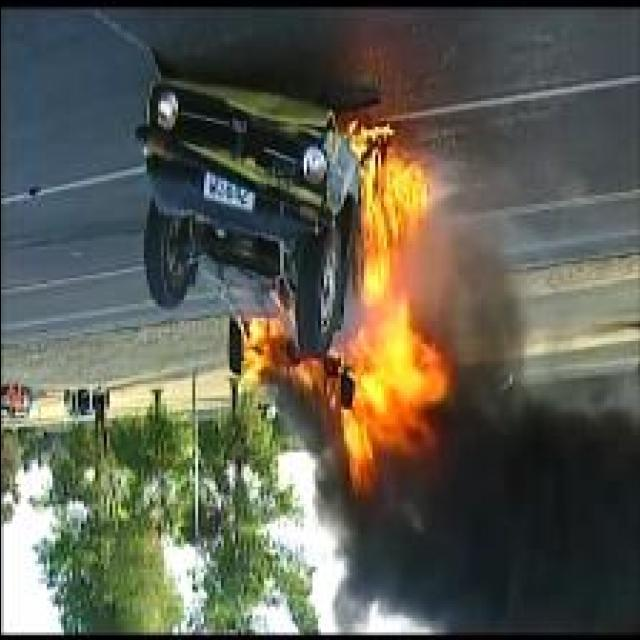Fire: (339, 120, 447, 494), (232, 317, 338, 400)
